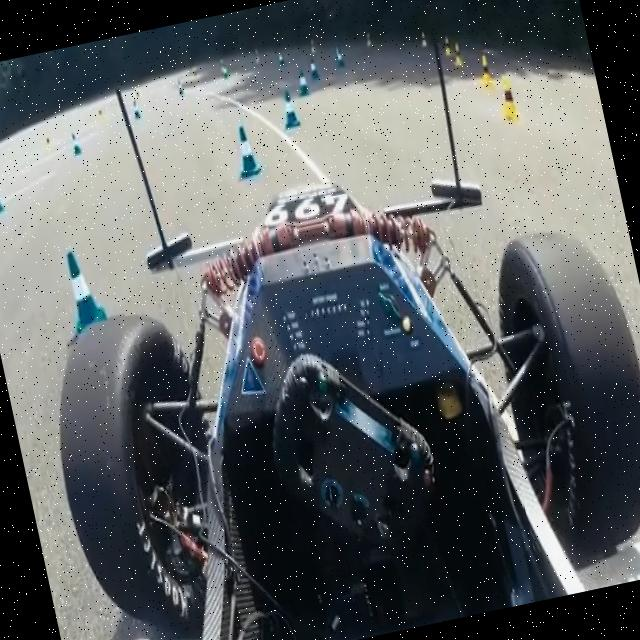blue_cone: (58, 246, 112, 345), (230, 124, 262, 180), (278, 89, 300, 130), (295, 68, 310, 96), (69, 132, 82, 156), (0, 183, 5, 216)
yellow_cone: (493, 74, 521, 124), (474, 54, 495, 92), (452, 42, 464, 68)
